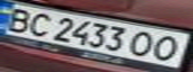2: (48, 15, 78, 43)
3: (106, 24, 130, 53), (87, 20, 109, 50)
4: (69, 18, 93, 47)
B: (0, 4, 39, 34)
C: (21, 10, 57, 38)
O: (145, 33, 190, 62), (124, 29, 163, 57)
